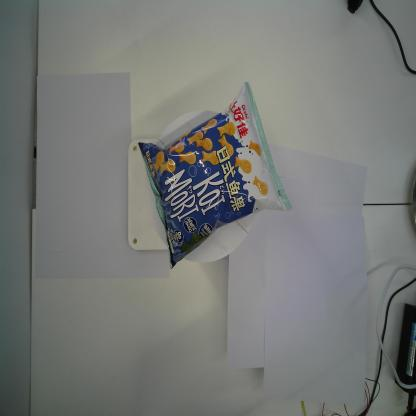Puffed Food: (137, 81, 292, 271)
